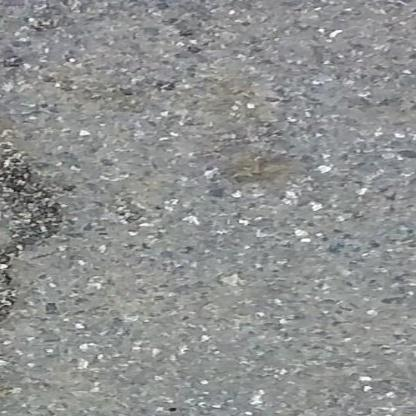Cracks: (0, 118, 69, 395)
